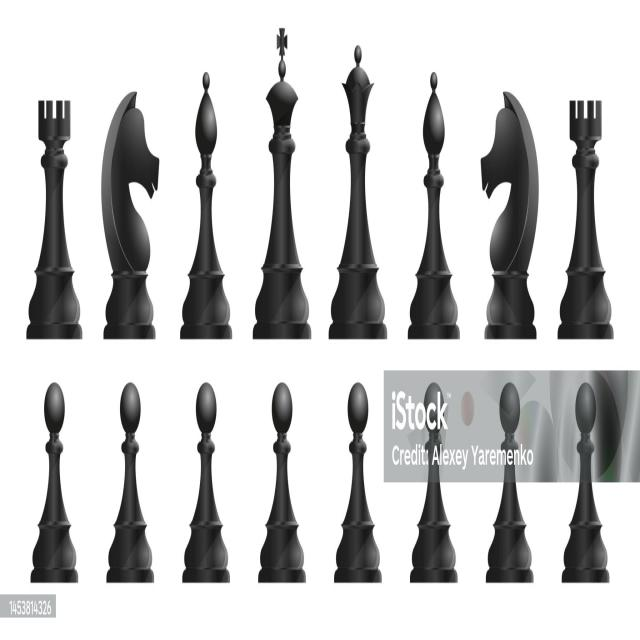black-bishop: (180, 71, 232, 340), (408, 72, 460, 340)
black-king: (253, 28, 311, 338)
black-knight: (102, 91, 160, 340), (481, 92, 539, 340)
black-pawn: (182, 382, 230, 584), (258, 382, 306, 584), (334, 381, 382, 583), (410, 382, 458, 584), (486, 382, 534, 584), (562, 382, 610, 584), (106, 382, 154, 583), (31, 382, 78, 583)
black-queen: (328, 45, 388, 340)
black-rook: (558, 99, 614, 340), (26, 100, 82, 340)
